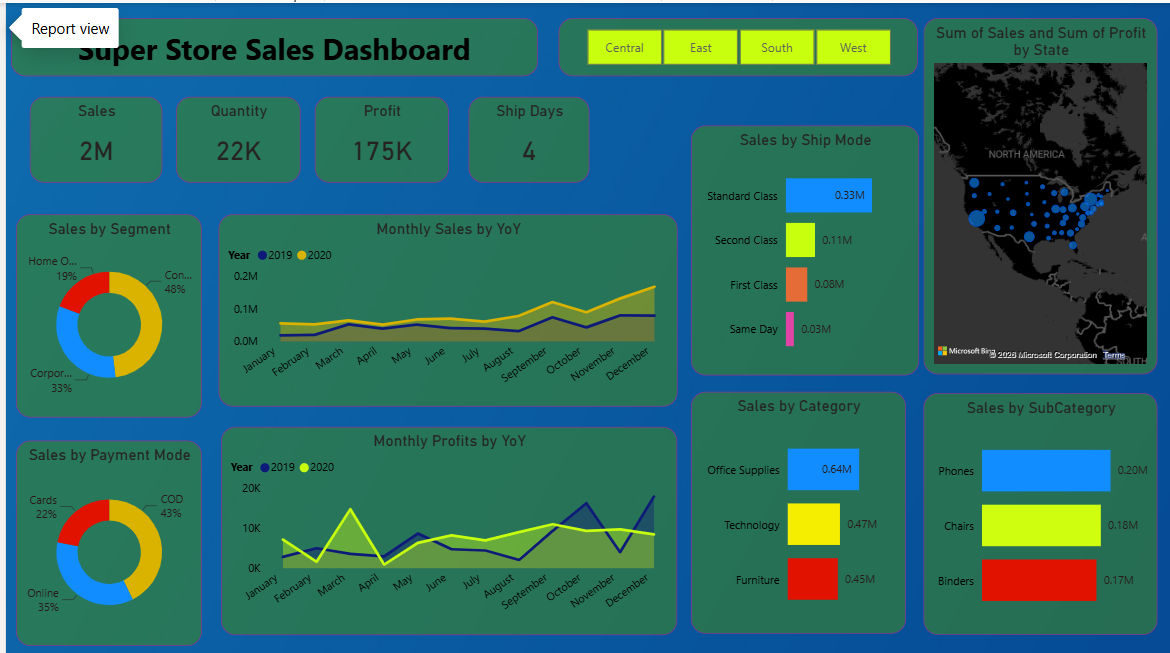

The page's visual inventory and layout, read from the dashboard file:
{"tool":"powerbi","page":{"name":"Page 1","canvas":[1280,720],"ordinal":0},"visuals":[{"type":"clusteredBarChart","title":"Sales by Category","fields":{"Category":["SuperStore_Sales_Dataset.Category"],"Y":["Sum(SuperStore_Sales_Dataset.Sales)"]},"box":[751.4,427.1,235.7,265.7],"z":0},{"type":"clusteredBarChart","title":"Sales by SubCategory","fields":{"Category":["SuperStore_Sales_Dataset.Sub-Category"],"Y":["Sum(SuperStore_Sales_Dataset.Sales)"]},"box":[1007.1,428.6,257.1,265.7],"z":1000},{"type":"clusteredBarChart","title":"Sales by Ship Mode","fields":{"Category":["SuperStore_Sales_Dataset.Ship Mode"],"Y":["Sum(SuperStore_Sales_Dataset.Sales)"]},"box":[751.4,134.3,250,274.3],"z":2000},{"type":"areaChart","title":"Monthly Sales by YoY","fields":{"Y":["Sum(SuperStore_Sales_Dataset.Sales)"],"Series":["SuperStore_Sales_Dataset.Order Date.Variation.Date Hierarchy.Year"],"Category":["SuperStore_Sales_Dataset.Order Date.Variation.Date Hierarchy.Month"]},"box":[232.9,231.4,504.3,211.4],"z":3000},{"type":"areaChart","title":"Monthly Profits by YoY","fields":{"Series":["SuperStore_Sales_Dataset.Order Date.Variation.Date Hierarchy.Year"],"Category":["SuperStore_Sales_Dataset.Order Date.Variation.Date Hierarchy.Month"],"Y":["Sum(SuperStore_Sales_Dataset.Profit)"]},"box":[236,465.2,500.9,229.2],"z":4000},{"type":"map","title":"Sum of Sales and Sum of Profit by State","fields":{"Category":["SuperStore_Sales_Dataset.State"],"Size":["Sum(SuperStore_Sales_Dataset.Sales)"]},"box":[1007.1,17.1,257.1,391.4],"z":5000},{"type":"donutChart","title":" Sales by Segment","fields":{"Category":["SuperStore_Sales_Dataset.Segment"],"Y":["Sum(SuperStore_Sales_Dataset.Sales)"]},"box":[11.4,231.4,204.3,222.9],"z":6000},{"type":"donutChart","title":"Sales by Payment Mode","fields":{"Category":["SuperStore_Sales_Dataset.Payment Mode"],"Y":["Sum(SuperStore_Sales_Dataset.Sales)"]},"box":[11.4,480,204.3,225.7],"z":7000},{"type":"slicer","fields":{"Values":["SuperStore_Sales_Dataset.Region"]},"box":[607.1,17.1,394.3,64.3],"z":8000},{"type":"textbox","box":[5.7,17.1,578.6,64.3],"z":9000},{"type":"card","title":"Sales","fields":{"Values":["Sum(SuperStore_Sales_Dataset.Sales)"]},"box":[25.7,102.9,145.7,94.3],"z":10000},{"type":"card","title":"Quantity","fields":{"Values":["Sum(SuperStore_Sales_Dataset.Quantity)"]},"box":[187.1,102.9,137.1,94.3],"z":11000},{"type":"card","title":"Profit","fields":{"Values":["Sum(SuperStore_Sales_Dataset.Profit)"]},"box":[338.6,102.9,147.1,94.3],"z":12000},{"type":"card","title":"Ship Days","fields":{"Values":["Avg(SuperStore_Sales_Dataset.AvgDelivey)"]},"box":[507.1,102.9,132.9,94.3],"z":13000}]}

Visuals, with their boxes on the page's 1280x720 design canvas (x1, y1, x2, y2). These are canvas units, not pixel positions in the 1170x653 screenshot, which may show the page scaled, cropped or inside an application window:
"Sales by Category" clusteredBarChart: bbox(751, 427, 987, 693)
"Sales by SubCategory" clusteredBarChart: bbox(1007, 429, 1264, 694)
"Sales by Ship Mode" clusteredBarChart: bbox(751, 134, 1001, 409)
"Monthly Sales by YoY" areaChart: bbox(233, 231, 737, 443)
"Monthly Profits by YoY" areaChart: bbox(236, 465, 737, 694)
"Sum of Sales and Sum of Profit by State" map: bbox(1007, 17, 1264, 408)
" Sales by Segment" donutChart: bbox(11, 231, 216, 454)
"Sales by Payment Mode" donutChart: bbox(11, 480, 216, 706)
slicer - SuperStore_Sales_Dataset.Region: bbox(607, 17, 1001, 81)
textbox: bbox(6, 17, 584, 81)
"Sales" card: bbox(26, 103, 171, 197)
"Quantity" card: bbox(187, 103, 324, 197)
"Profit" card: bbox(339, 103, 486, 197)
"Ship Days" card: bbox(507, 103, 640, 197)
